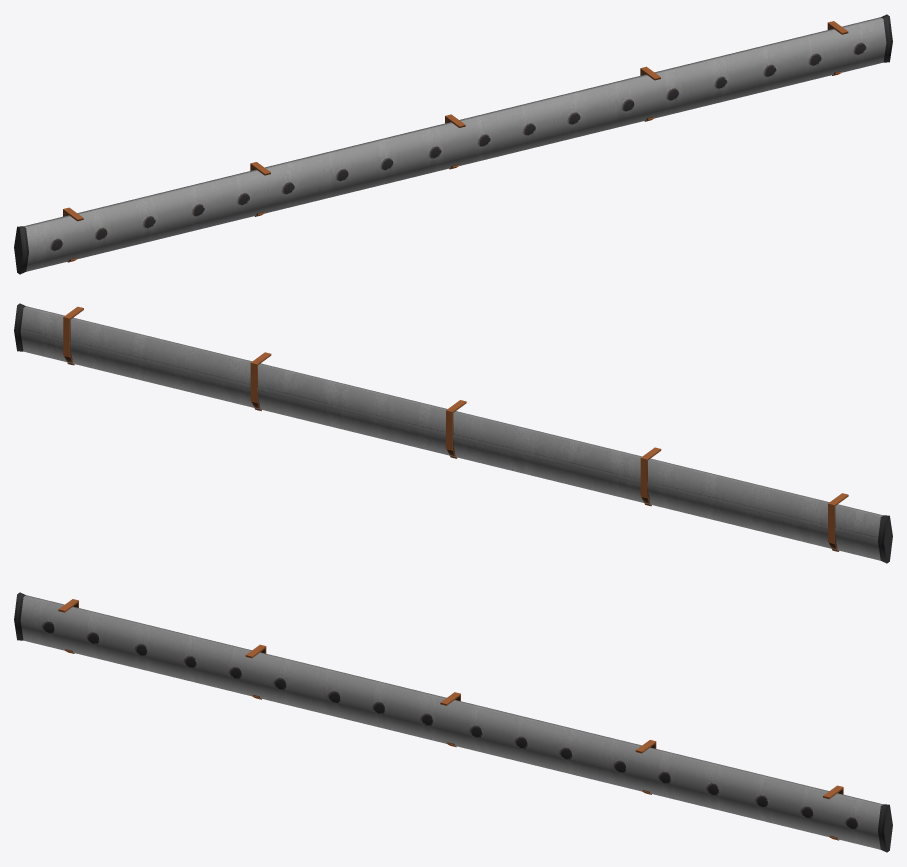
File: nt_hydro_wall_holders_LOD2.obj
The picture shows the model from 3 angles, top to bottom: view 1: azimuth 30°, elevation 25°; view 2: azimuth 150°, elevation 25°; view 3: azimuth 330°, elevation 25°; orthographic projection.
Parts seen in each view (by area): view 1: nt_2020_pipes_ceramic_holes; view 2: nt_2020_pipes_ceramic_holes; view 3: nt_2020_pipes_ceramic_holes.
Boxes of the visible parts, x1,y1,x2,y2 form: nt_2020_pipes_ceramic_holes: (14,14,892,274); nt_2020_pipes_ceramic_holes: (14,303,892,563); nt_2020_pipes_ceramic_holes: (14,592,892,852).
Size of the model in its own units: 420 by 23.2 by 11.96.
